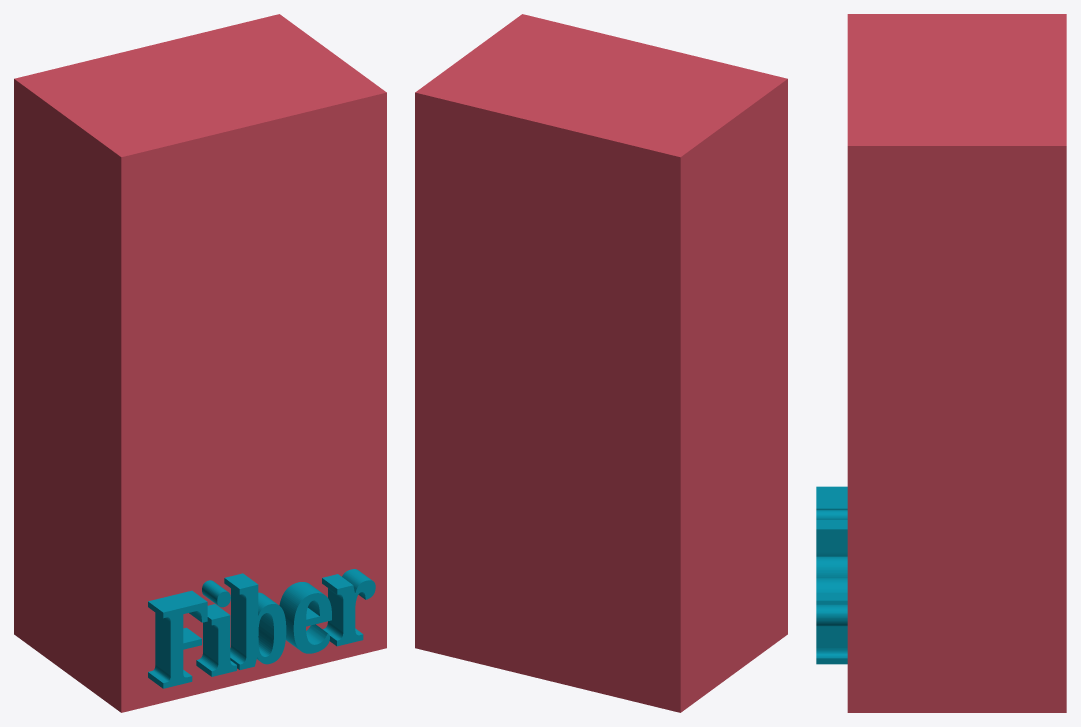
Rendered from fiberBlock.glb.
The picture shows the model from 3 angles, left to right: view 1: azimuth 30°, elevation 25°; view 2: azimuth 150°, elevation 25°; view 3: azimuth 270°, elevation 25°; orthographic projection. The views are drawn at different scales.
Parts seen in each view (by area): view 1: Mesh_Mesh_head_geo.001_lambert2SG.001; view 2: Mesh_Mesh_head_geo.001_lambert2SG.001; view 3: Mesh_Mesh_head_geo.001_lambert2SG.001.
Part boxes in pixels (x1=…): Mesh_Mesh_head_geo.001_lambert2SG.001: x1=14, y1=14, x2=386, y2=712; Mesh_Mesh_head_geo.001_lambert2SG.001: x1=415, y1=14, x2=787, y2=712; Mesh_Mesh_head_geo.001_lambert2SG.001: x1=816, y1=14, x2=1066, y2=712.
Size of the model in its own units: 10 by 20 by 8.
